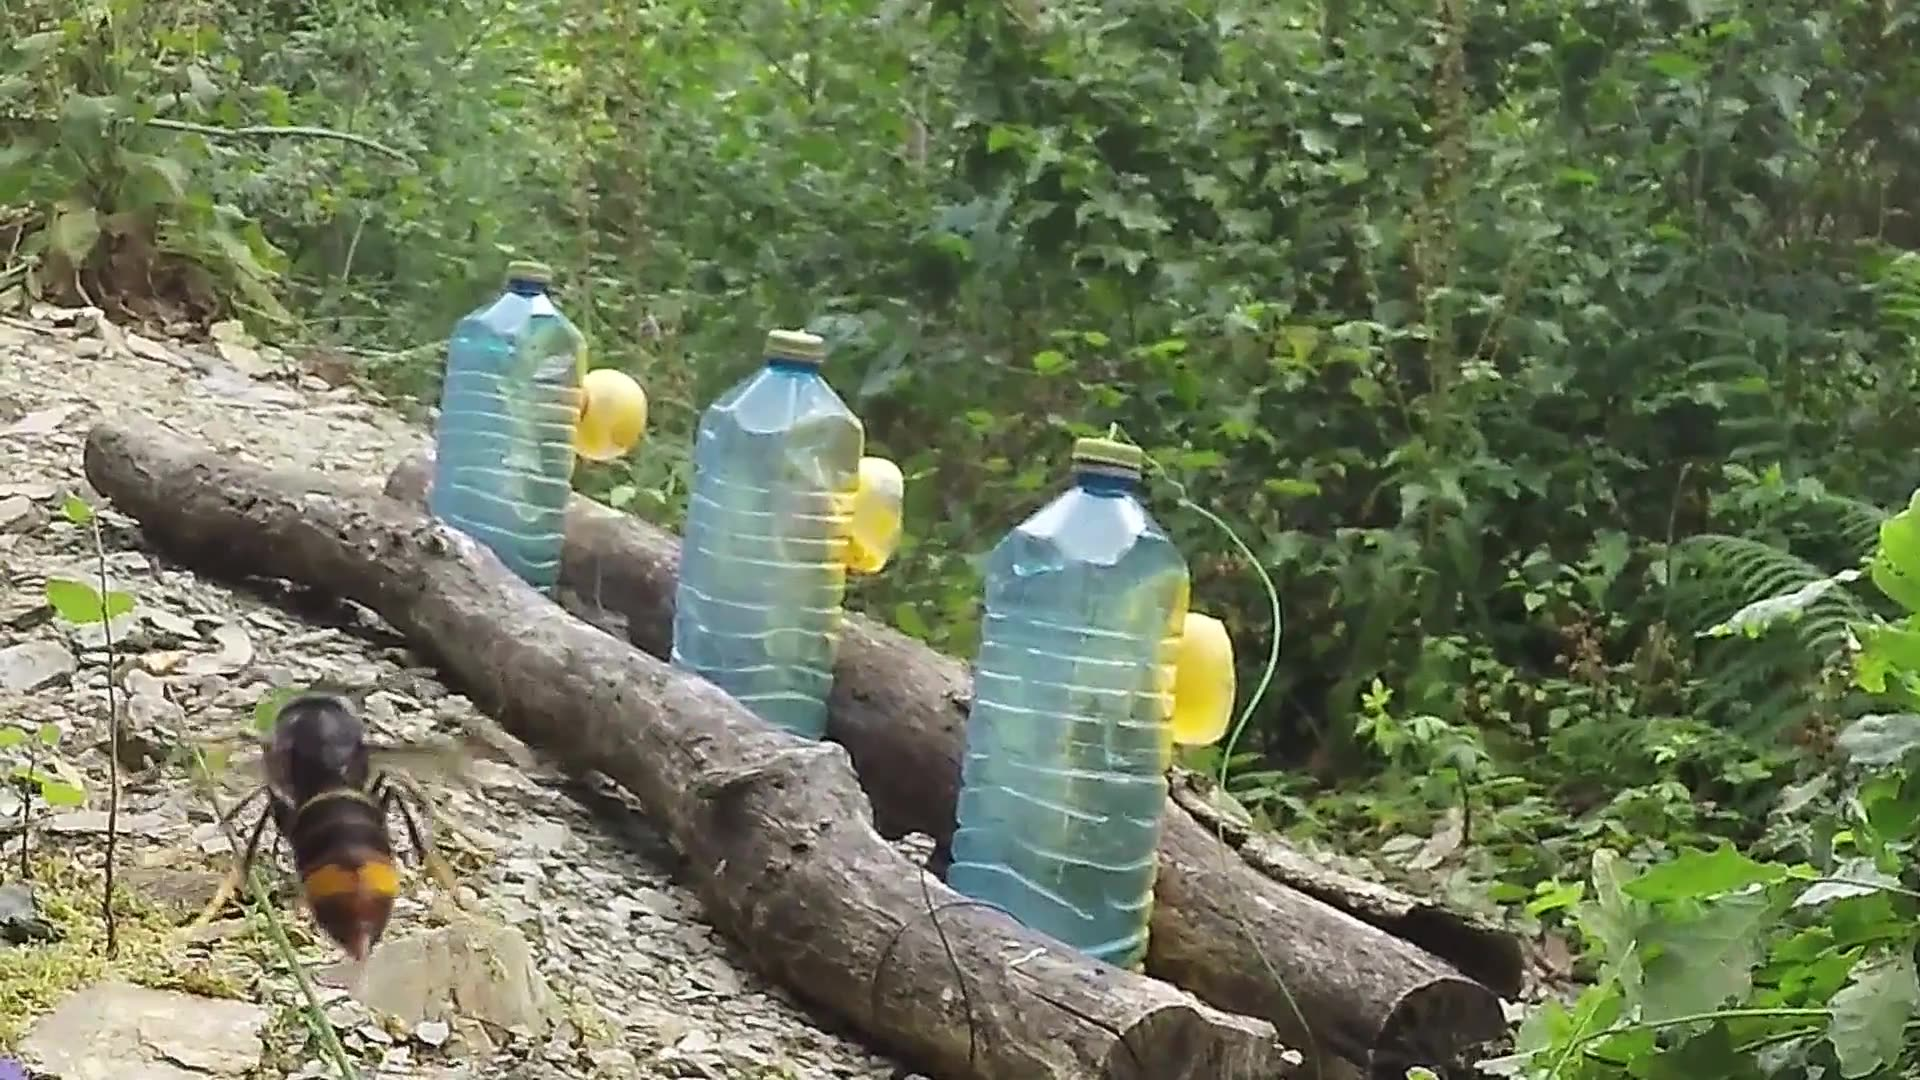hornet: (229, 666, 436, 971)
